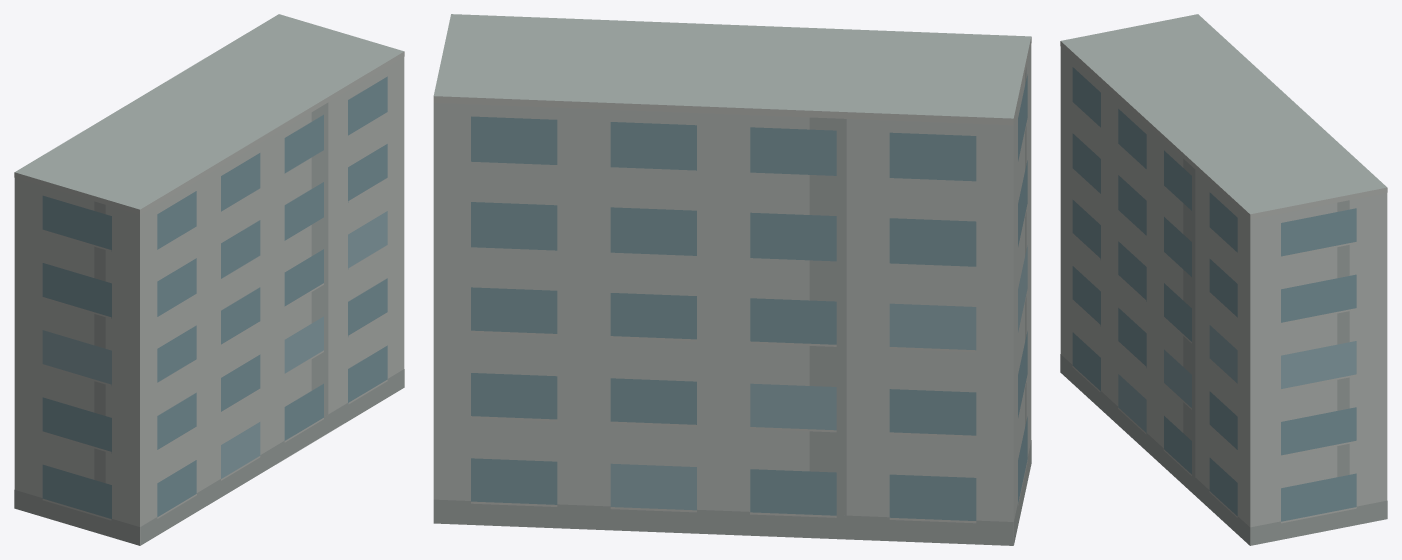
The model's file is residential-2b44948e-0a86-4ef7-8596-441554f0c100.glb.
3 views of the same model, side by side, from view 1: azimuth 30°, elevation 25°; view 2: azimuth 150°, elevation 25°; view 3: azimuth 270°, elevation 25° (orthographic). The views are drawn at different scales.
Parts seen in each view (by area): view 1: residential-2b44948e-0a86-4ef7-8596-441554f0c100.tmp; view 2: residential-2b44948e-0a86-4ef7-8596-441554f0c100.tmp; view 3: residential-2b44948e-0a86-4ef7-8596-441554f0c100.tmp.
Boxes of the visible parts, x1,y1,x2,y2 form: residential-2b44948e-0a86-4ef7-8596-441554f0c100.tmp: (14,14,404,545); residential-2b44948e-0a86-4ef7-8596-441554f0c100.tmp: (433,14,1031,545); residential-2b44948e-0a86-4ef7-8596-441554f0c100.tmp: (1060,14,1387,545).
Size of the model in its own units: 19.77 by 15.25 by 13.64.
